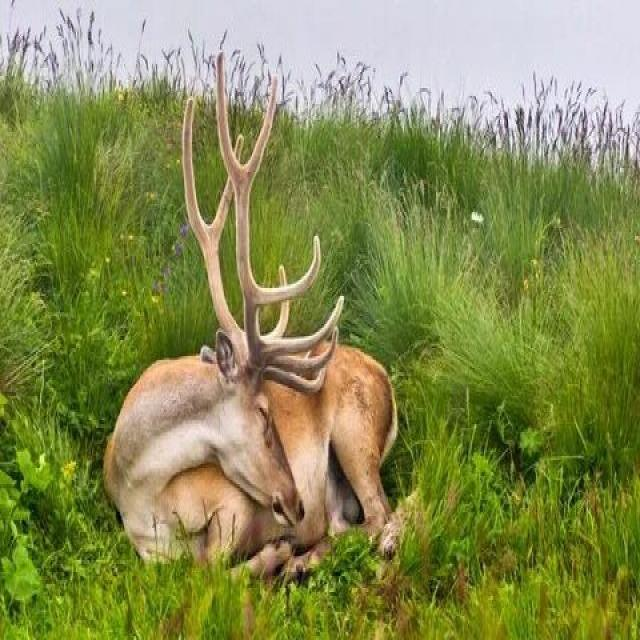deer: (99, 133, 442, 608)
